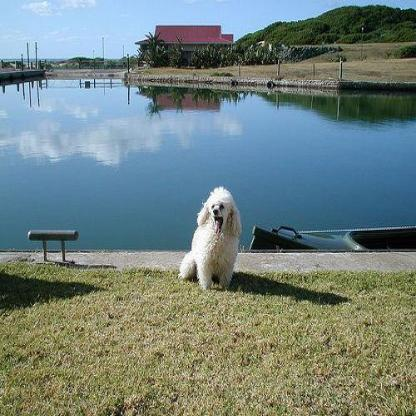toy_poodle: (177, 185, 244, 294)
